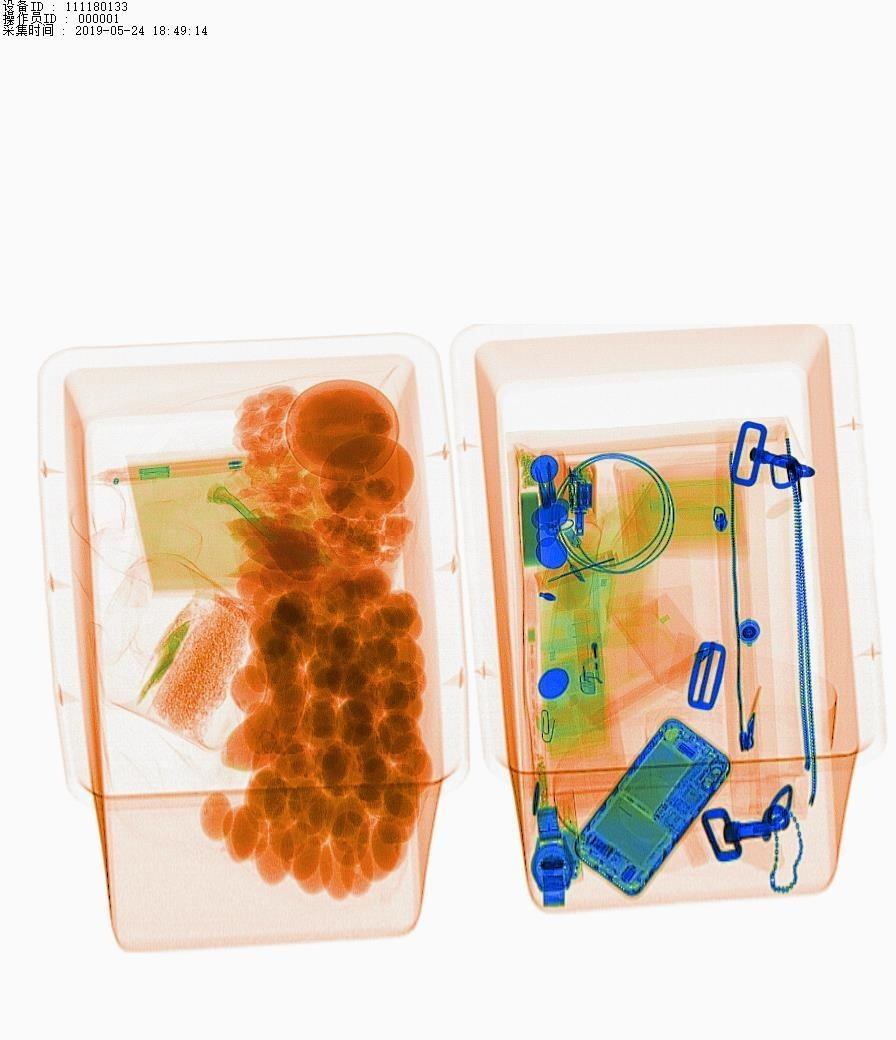NonmetallicFire: (568, 593, 608, 685)
